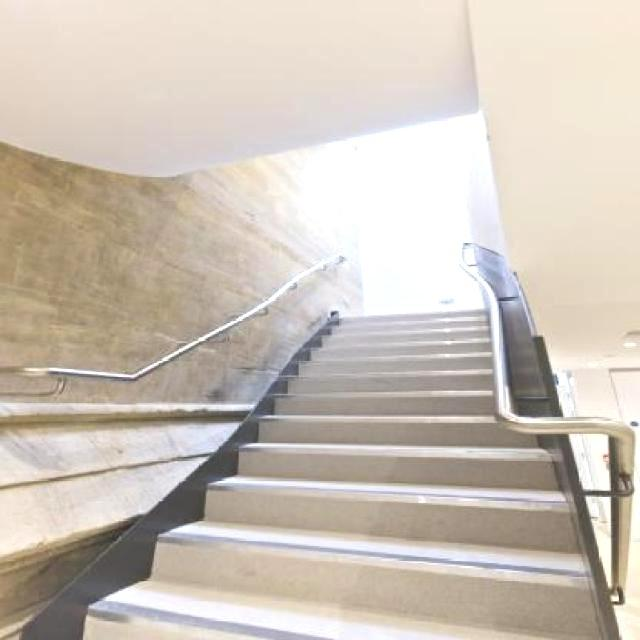stair: (86, 316, 600, 640)
